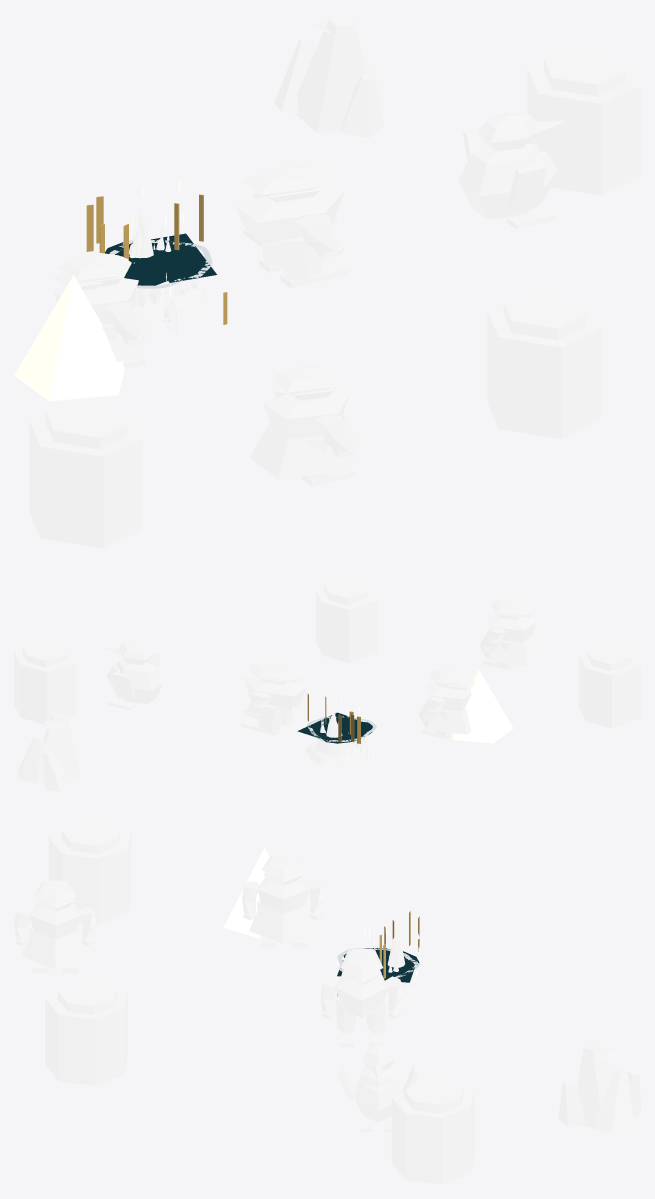
The model's file is ile-givre-v5-leger.glb.
The picture shows the model from 3 angles, top to bottom: view 1: azimuth 30°, elevation 25°; view 2: azimuth 150°, elevation 25°; view 3: azimuth 270°, elevation 25°; orthographic projection. The views are drawn at different scales.
Parts seen in each view (by area): view 1: ile_copie0.008, ile_anime5.007, ile_copie1.004, ile_anime1.013, ile_anime0.013, ile_anime4.007, ile_anime3.011, ile_libre0.011, ile_anime2.013, ile_corps.013, ile_libre1.005, ile_vitres.009; view 2: ile_anime5.007, ile_copie0.008, ile_copie1.004, ile_anime1.013, ile_anime0.013, ile_anime4.007, ile_anime2.013, ile_anime3.011, ile_libre0.011, ile_corps.013, ile_libre1.005, ile_vitres.009; view 3: ile_copie1.004, ile_anime5.007, ile_copie0.008, ile_anime2.013, ile_anime0.013, ile_anime4.007, ile_anime1.013, ile_anime3.011, ile_libre0.011, ile_corps.013, ile_libre1.005.
Part boxes in pixels (x1,y1,x2,y2): ile_copie0.008: [29, 403, 142, 548]; ile_anime5.007: [487, 294, 600, 439]; ile_copie1.004: [527, 51, 640, 195]; ile_anime1.013: [235, 163, 349, 288]; ile_anime0.013: [249, 363, 362, 487]; ile_anime4.007: [274, 14, 385, 138]; ile_anime3.011: [458, 113, 566, 229]; ile_libre0.011: [14, 275, 124, 401]; ile_anime2.013: [53, 251, 151, 369]; ile_corps.013: [129, 204, 208, 334]; ile_libre1.005: [105, 233, 216, 288]; ile_vitres.009: [86, 194, 227, 324]; ile_anime5.007: [315, 577, 377, 663]; ile_copie0.008: [579, 643, 640, 728]; ile_copie1.004: [14, 639, 75, 724]; ile_anime1.013: [240, 662, 306, 734]; ile_anime0.013: [479, 598, 544, 669]; ile_anime4.007: [17, 712, 80, 791]; ile_anime2.013: [418, 667, 475, 739]; ile_anime3.011: [101, 642, 164, 710]; ile_libre0.011: [452, 670, 513, 743]; ile_corps.013: [305, 709, 372, 767]; ile_libre1.005: [297, 712, 376, 743]; ile_vitres.009: [307, 693, 360, 743]; ile_copie1.004: [391, 1080, 474, 1184]; ile_anime5.007: [45, 981, 127, 1085]; ile_copie0.008: [48, 820, 131, 924]; ile_anime2.013: [242, 854, 324, 947]; ile_anime0.013: [14, 880, 96, 972]; ile_anime4.007: [558, 1042, 640, 1133]; ile_anime1.013: [320, 949, 402, 1047]; ile_anime3.011: [337, 1042, 419, 1132]; ile_libre0.011: [223, 847, 276, 941]; ile_corps.013: [345, 929, 419, 1013]; ile_libre1.005: [337, 948, 419, 982].
Bounding box in the file's own units: 16.87 × 2.62 × 15.18.
